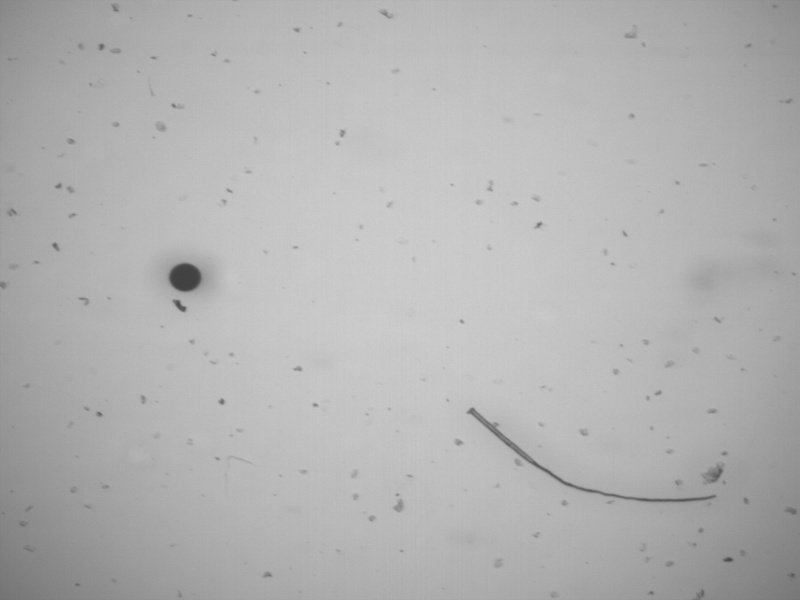bead: (169, 262, 203, 293)
fiber: (465, 404, 718, 505), (222, 452, 259, 499)
